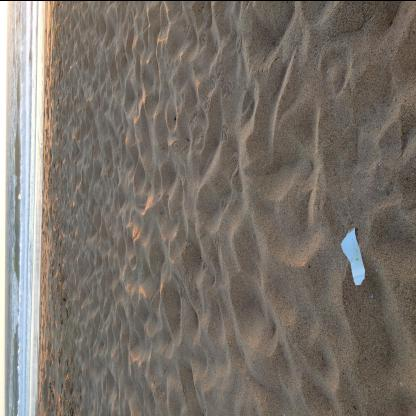kagit: (340, 227, 368, 285)
